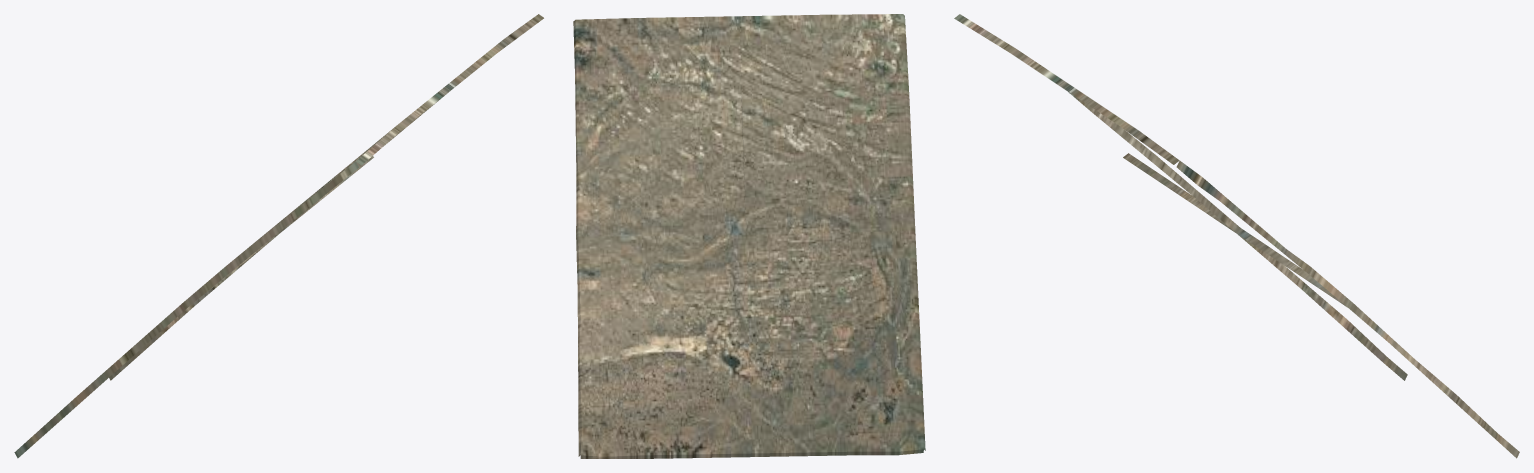
The picture shows the model from 3 angles, left to right: view 1: azimuth 30°, elevation 25°; view 2: azimuth 150°, elevation 25°; view 3: azimuth 270°, elevation 25°; orthographic projection. The views are drawn at different scales.
Size of the model in its own units: 311013 by 231979 by 307563.
Materials: 1 (1 with a texture image).
